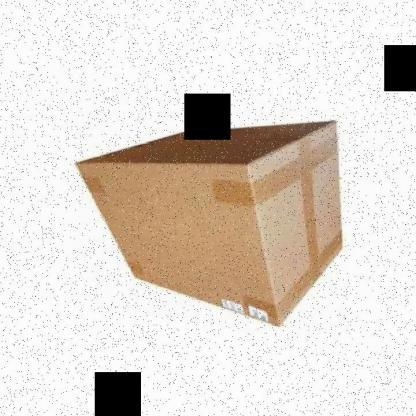-: (73, 111, 349, 333)
